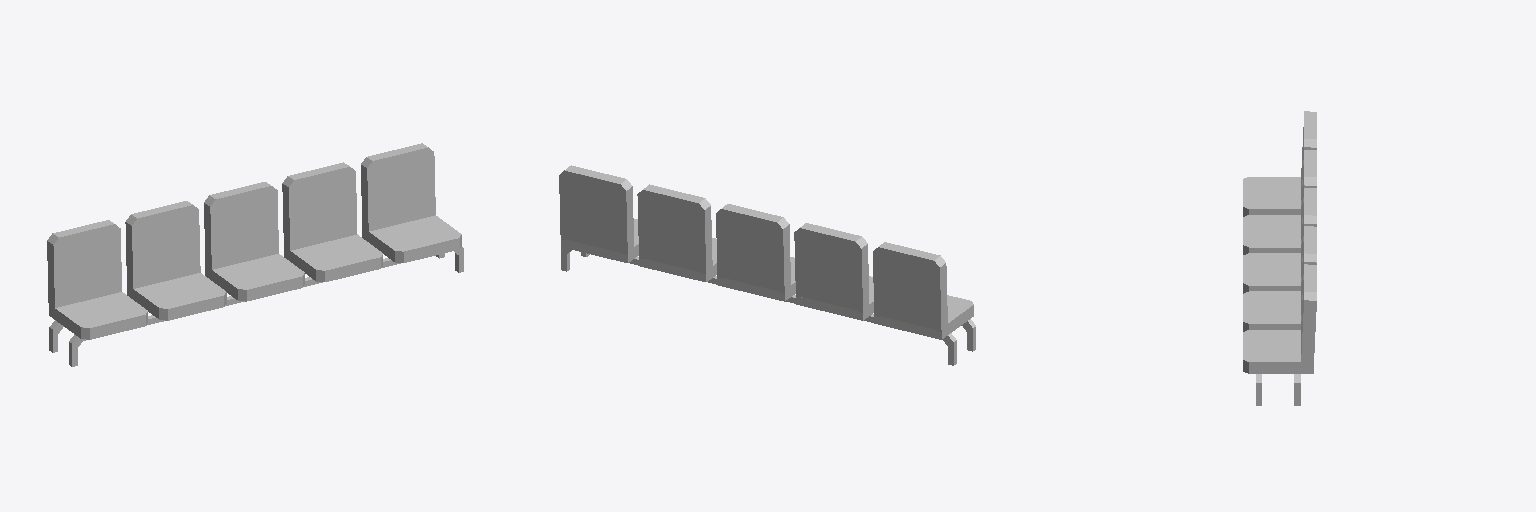
Rendered from chair1.obj.
3 views of the same model, side by side, from view 1: azimuth 30°, elevation 25°; view 2: azimuth 150°, elevation 25°; view 3: azimuth 270°, elevation 25° (orthographic).
Visible parts, largest first — view 1: Part35, Part46, Part57, Part23, Part11, Part12, Part24, Part36, Part47, Part58, Part15, Part3 (+13 smaller); view 2: Part9, Part33, Part21, Part44, Part55, Part19, Part7, Part42, Part53, Part31, Part45, Part56 (+8 smaller); view 3: Part12, Part36, Part24, Part47, Part58, Part29, Part26.
Part boxes in pixels (left/top/right/bottom): Part35: left=373, top=153, right=429, bottom=229; Part46: left=294, top=173, right=351, bottom=248; Part57: left=216, top=192, right=272, bottom=268; Part23: left=138, top=211, right=194, bottom=287; Part11: left=59, top=230, right=116, bottom=306; Part12: left=61, top=293, right=141, bottom=325; Part24: left=140, top=274, right=219, bottom=306; Part36: left=375, top=217, right=455, bottom=248; Part47: left=296, top=236, right=376, bottom=267; Part58: left=218, top=255, right=298, bottom=287; Part15: left=166, top=293, right=223, bottom=320; Part3: left=87, top=312, right=145, bottom=339; Part9: left=878, top=253, right=935, bottom=329; Part33: left=565, top=177, right=621, bottom=252; Part21: left=800, top=234, right=856, bottom=309; Part44: left=643, top=196, right=700, bottom=271; Part55: left=721, top=215, right=778, bottom=290; Part19: left=856, top=244, right=869, bottom=317; Part7: left=934, top=263, right=947, bottom=335; Part42: left=699, top=206, right=712, bottom=277; Part53: left=777, top=224, right=790, bottom=295; Part31: left=621, top=186, right=633, bottom=256; Part45: left=643, top=184, right=704, bottom=208; Part56: left=721, top=204, right=783, bottom=227; Part12: left=1249, top=179, right=1300, bottom=206; Part36: left=1249, top=332, right=1300, bottom=359; Part24: left=1249, top=218, right=1300, bottom=244; Part47: left=1249, top=294, right=1300, bottom=320; Part58: left=1249, top=256, right=1300, bottom=282; Part29: left=1301, top=300, right=1316, bottom=370; Part26: left=1249, top=360, right=1306, bottom=373.
Size of the model in its own units: 15.18 by 4.03 by 2.5.